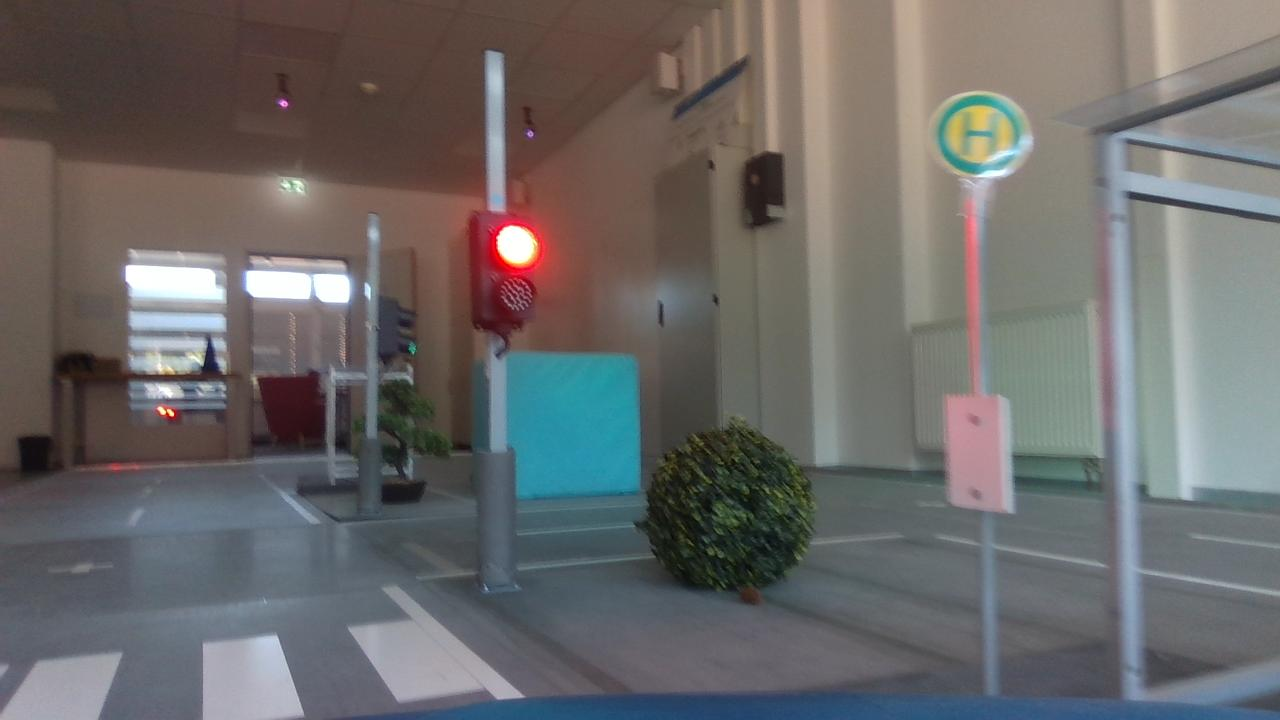traffic_light_red: (456, 191, 548, 352)
